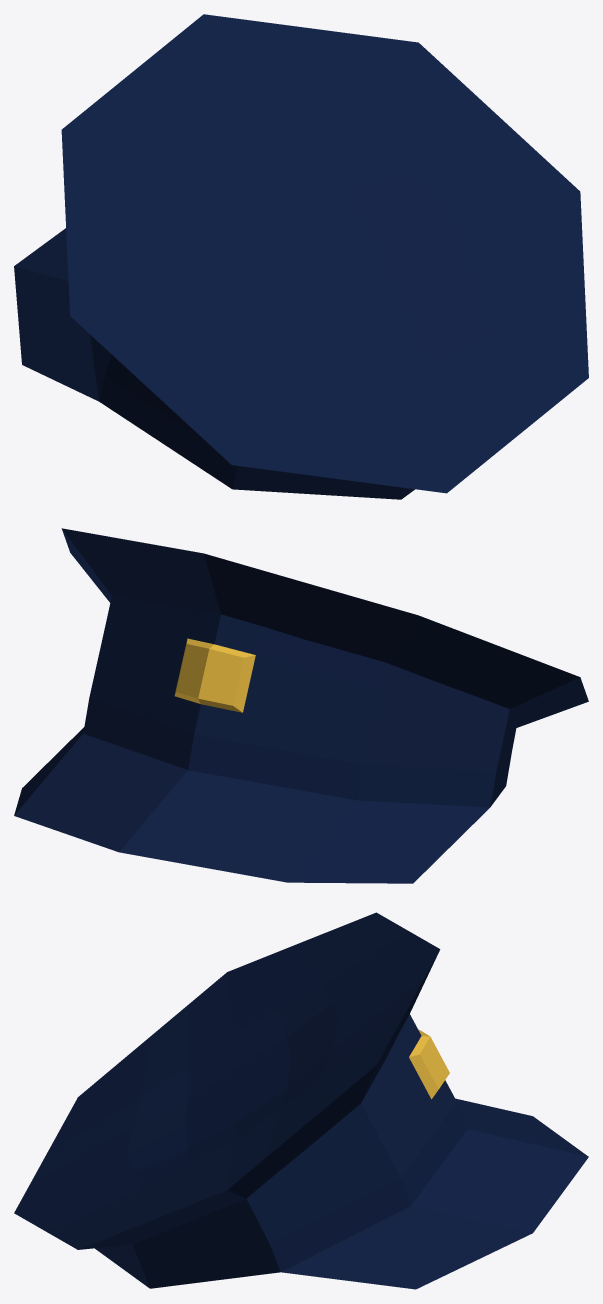
Rendered from police hat.fbx.
The picture shows the model from 3 angles, top to bottom: view 1: azimuth 30°, elevation 25°; view 2: azimuth 150°, elevation 25°; view 3: azimuth 270°, elevation 25°; orthographic projection. The views are drawn at different scales.
Visible parts, largest first — view 1: Plane; view 2: Plane; view 3: Plane.
Part boxes in pixels (x1,y1,x2,y2): Plane: (14, 14, 588, 499); Plane: (14, 528, 588, 883); Plane: (14, 912, 588, 1289).
Size of the model in its own units: 203 by 129 by 226.
